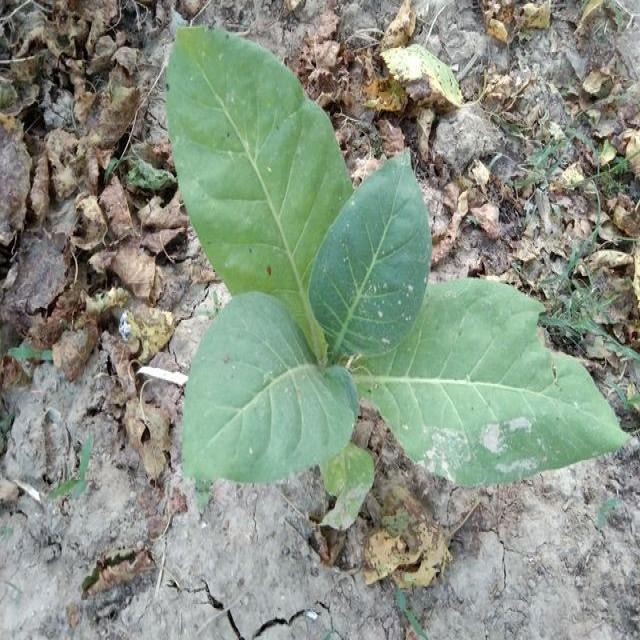crop: (166, 39, 628, 508)
